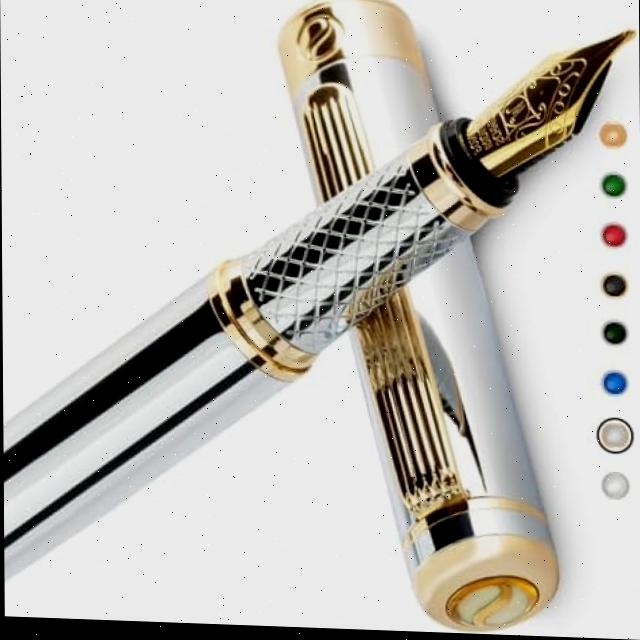pen: (0, 9, 640, 612)
